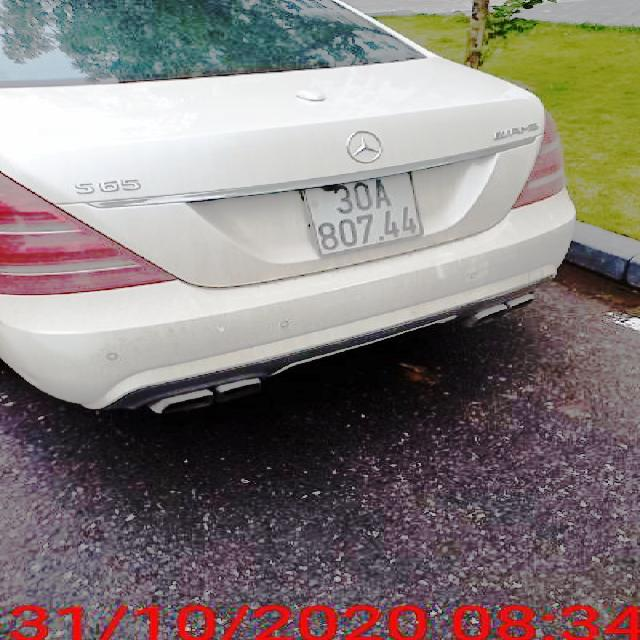license_plate: (303, 170, 424, 259)
